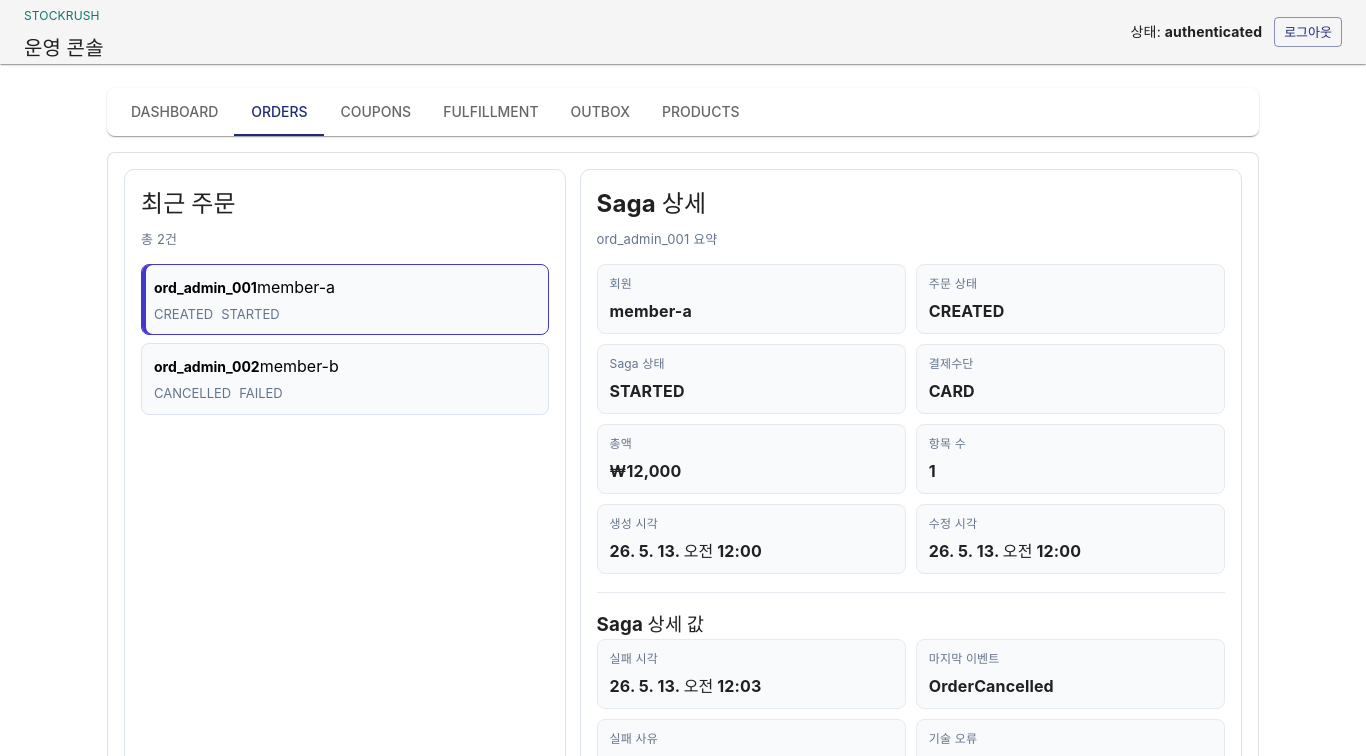
Test: admin app operations › loads coupon usage history and applies filters through gateway
The width and height of the screenshot is (1366, 756).
Click the tab "Coupons" at (376, 112), box [324,88,427,136]
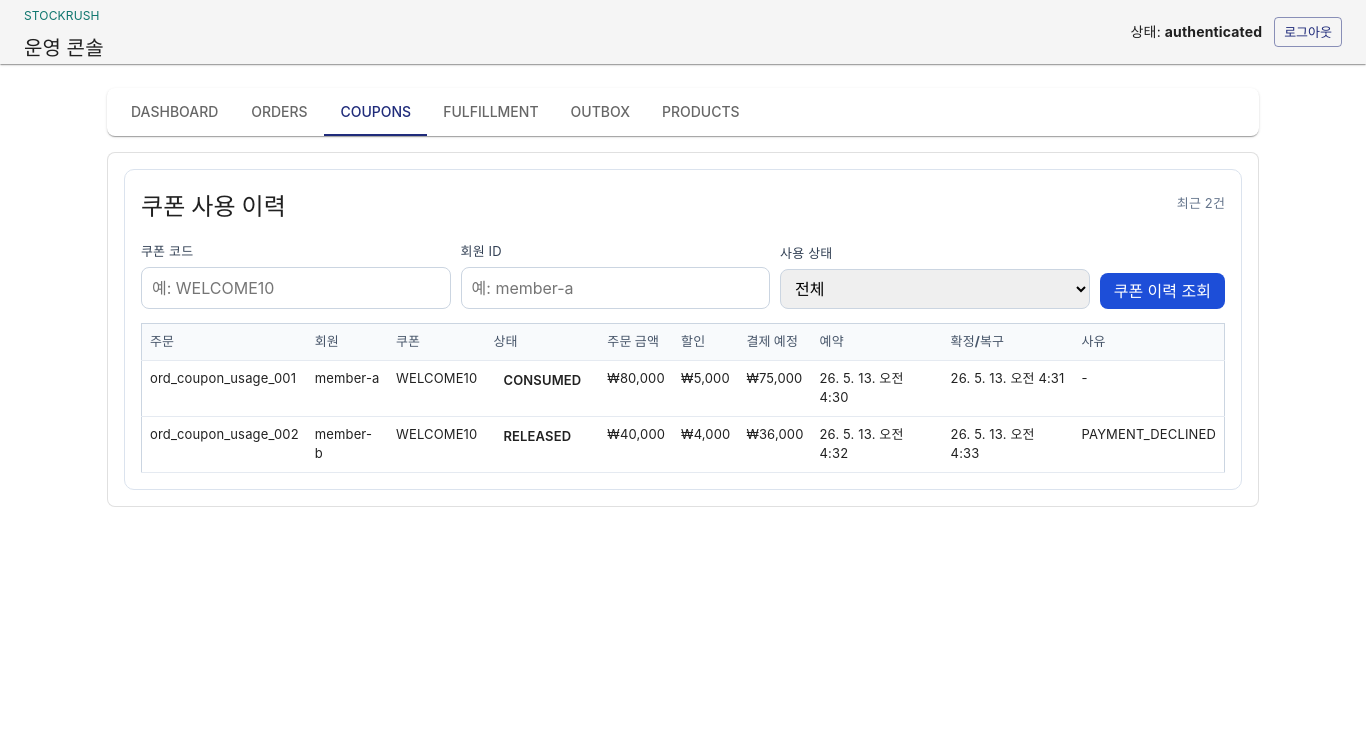
Expected: the heading "쿠폰 사용 이력" is shown, [141,189,286,225]
Expected: the text "ord_coupon_usage_001" is shown, [142,360,307,416]
Expected: the text "ord_coupon_usage_002" is shown, [142,416,307,472]
Type "WELCOME10" into the field labelled "쿠폰 코드" at (296, 288), box [141,267,450,309]
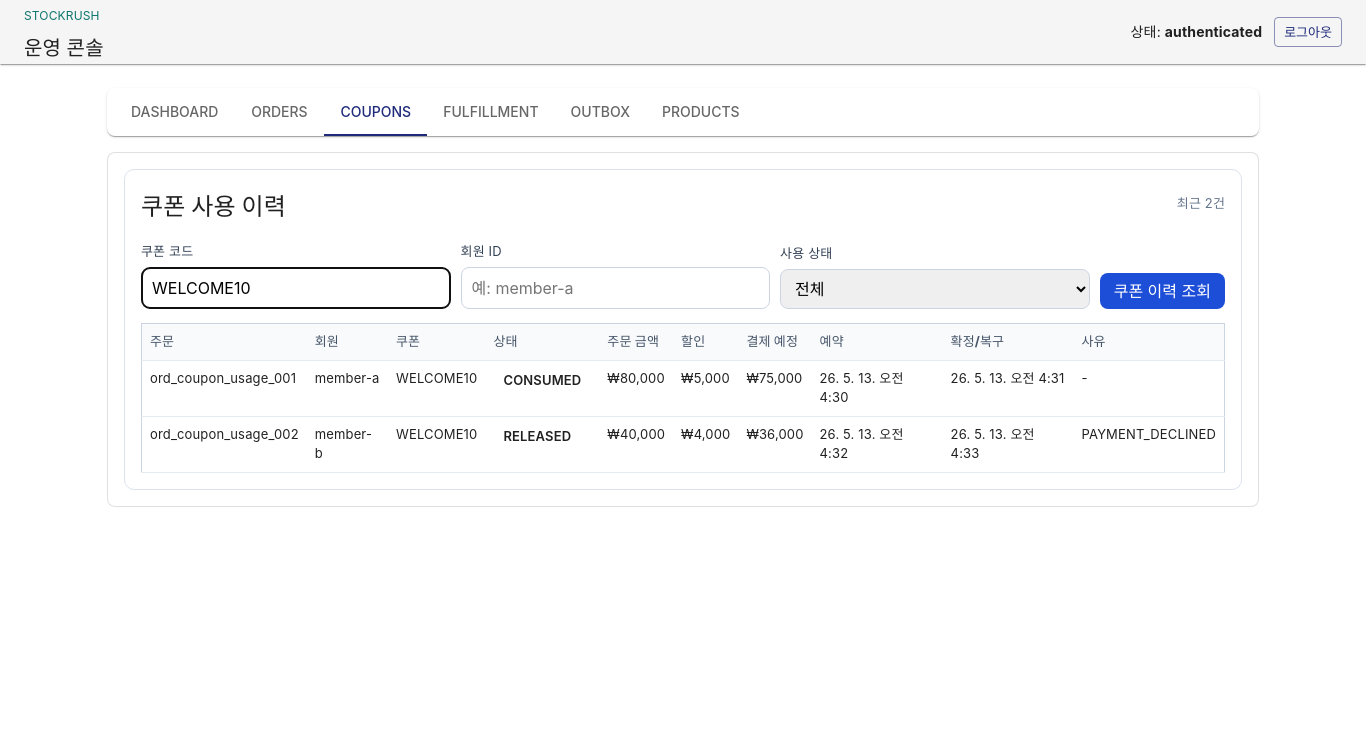
Select "CONSUMED" in the dropdown labelled "사용 상태" at (935, 289), box [780,269,1090,309]
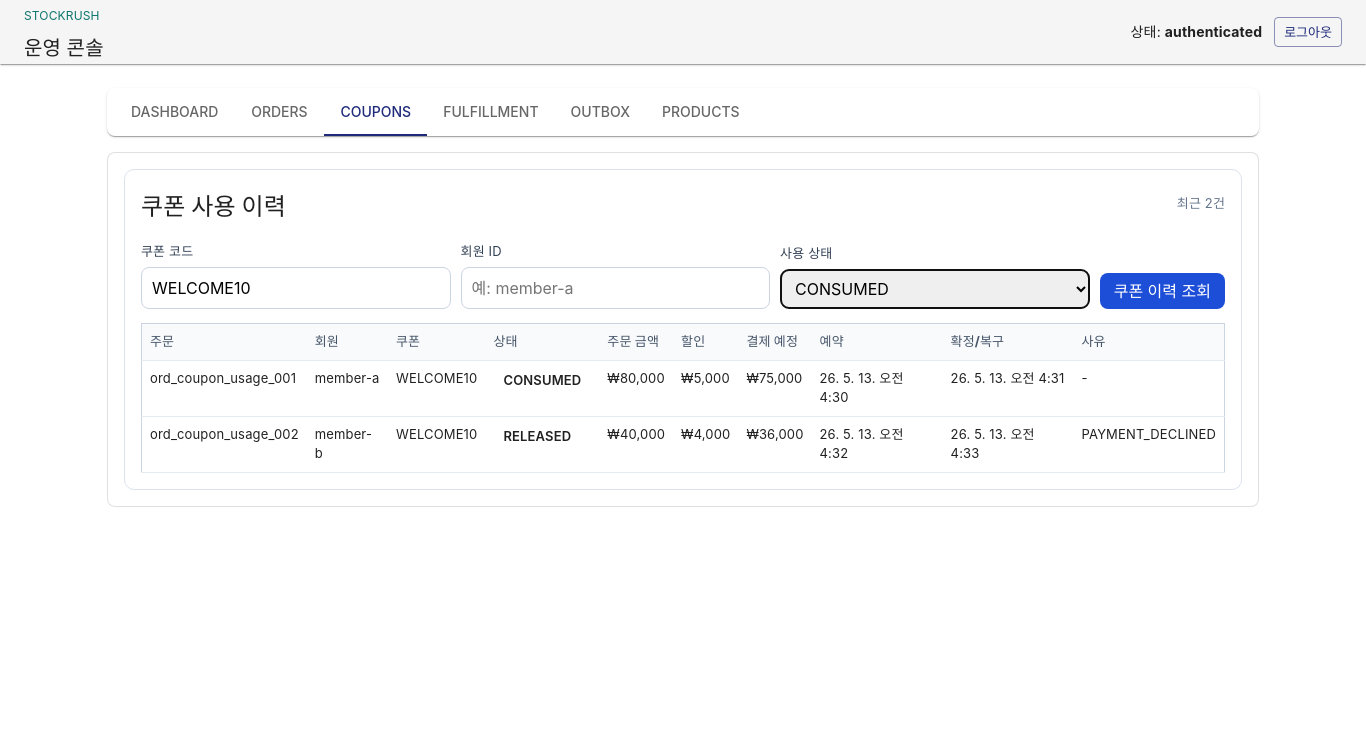
Click the button "쿠폰 이력 조회" at (1162, 291), box [1100,273,1225,309]
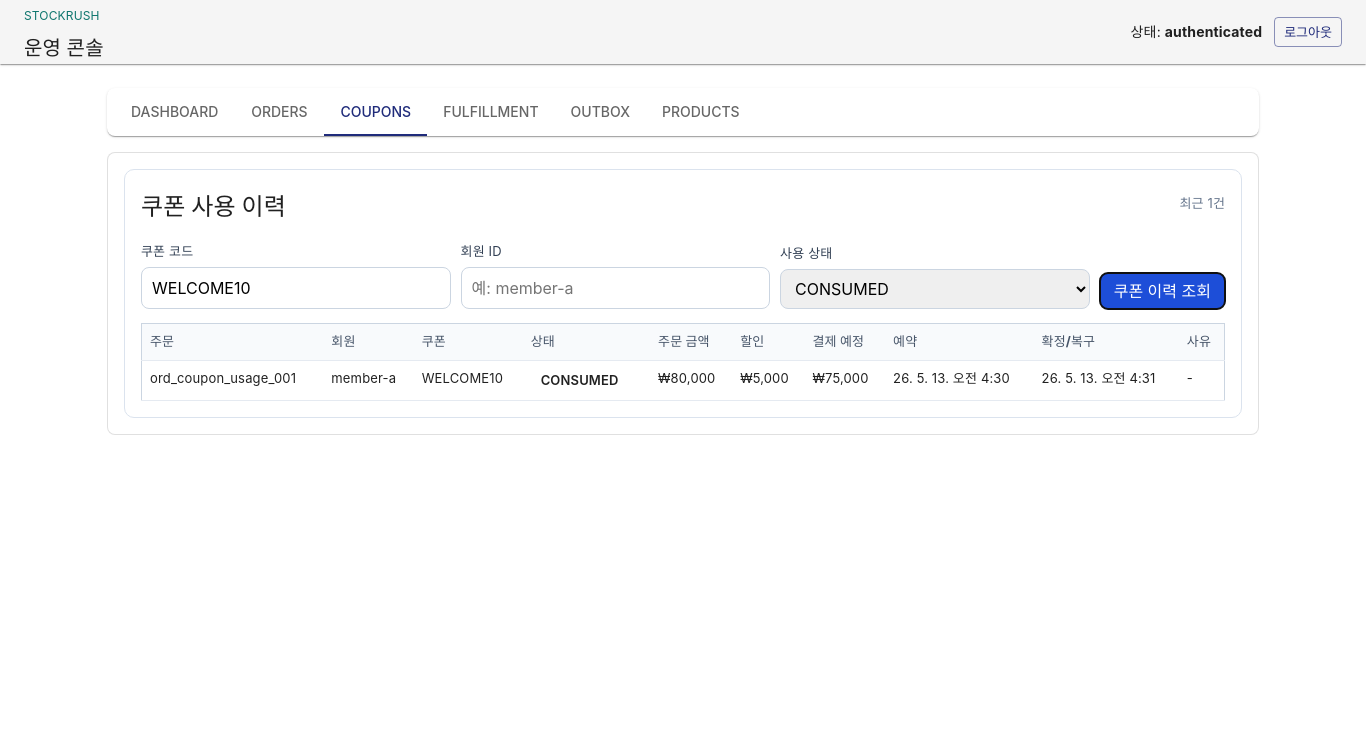
Expected: the text "ord_coupon_usage_001" is shown, [142,360,323,400]
Expected: the text "ord_coupon_usage_002" is gone
